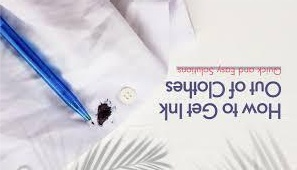ink: (97, 102, 111, 125)
